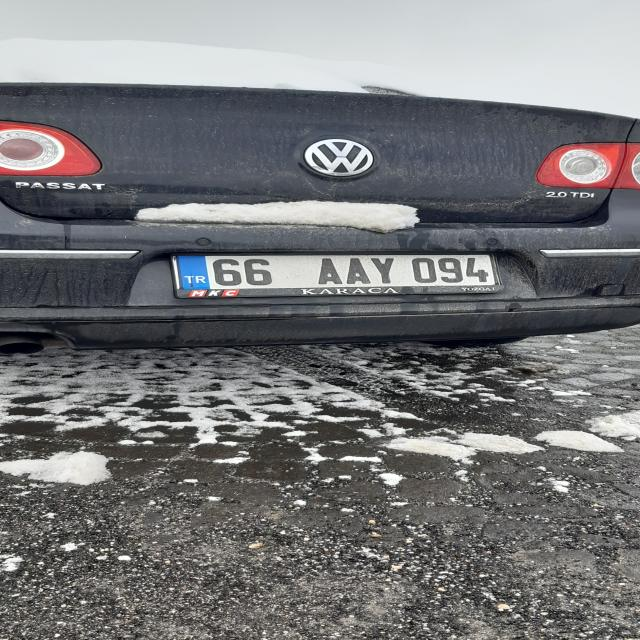plate: (172, 253, 498, 289)
